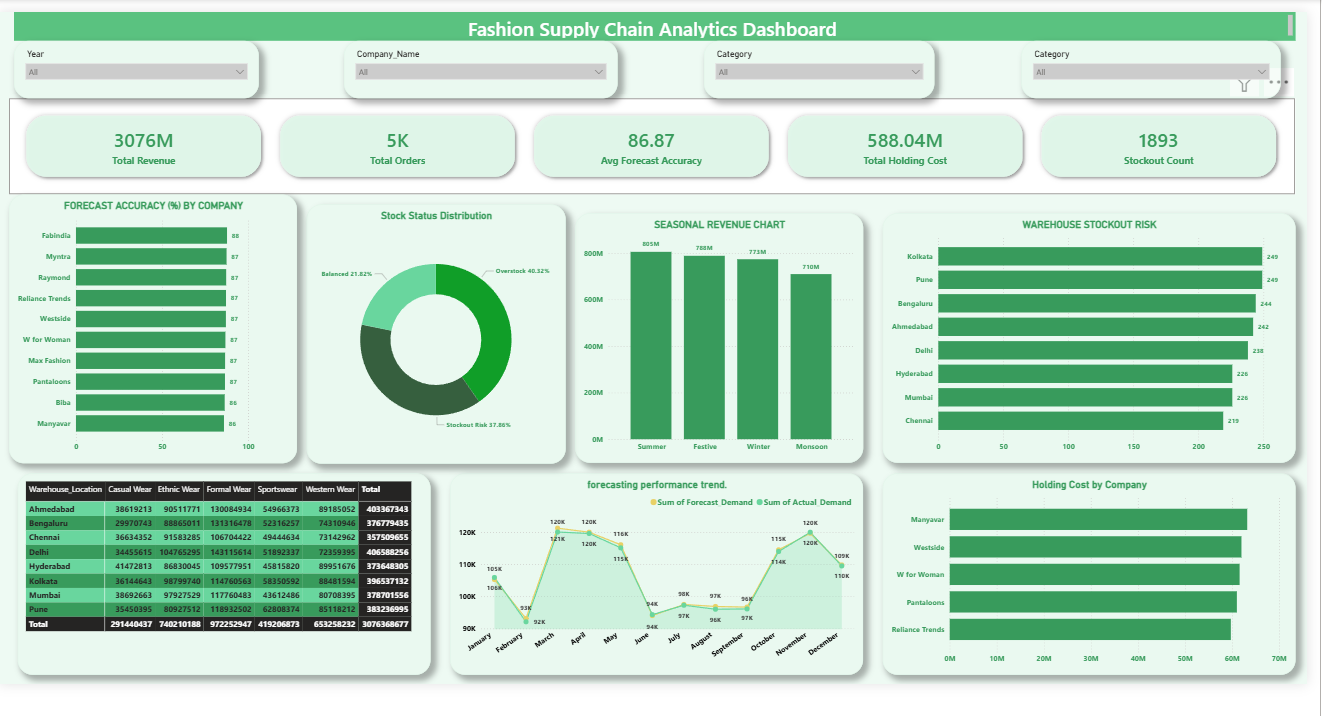

Layout of this report page (visuals, bound fields, positions):
{"tool":"powerbi","page":{"name":"Executive Supply Chain Dashboard","canvas":[2180,1120],"ordinal":0},"visuals":[{"type":"textbox","box":[24,0,2136,48],"z":0},{"type":"cardVisual","fields":{"Data":["fashion_supply_chain inventory_data.Total Revenue","CountNonNull(fashion_supply_chain inventory_data.Order_ID)","fashion_supply_chain inventory_data.Avg Forecast Accuracy","fashion_supply_chain inventory_data.Total Holding Cost","fashion_supply_chain inventory_data.Stockout Count"]},"box":[16,144,2144,160],"z":1000},{"type":"lineChart","title":"forecasting performance trend.","fields":{"Y":["Sum(fashion_supply_chain inventory_data.Forecast_Demand)","Sum(fashion_supply_chain inventory_data.Actual_Demand)"],"Category":["fashion_supply_chain inventory_data.Month"]},"box":[752,768,688,336],"z":2000},{"type":"donutChart","title":"Stock Status Distribution","fields":{"Category":["fashion_supply_chain inventory_data.Stock_Status"],"Y":["CountNonNull(fashion_supply_chain inventory_data.Order_ID)"]},"box":[512,320,432,432],"z":3000},{"type":"clusteredBarChart","title":"Holding Cost by Company","fields":{"Category":["fashion_supply_chain inventory_data.Company_Name"],"Y":["Sum(fashion_supply_chain inventory_data.Holding_Cost)"]},"box":[1472,768,688,336],"z":4000},{"type":"clusteredColumnChart","title":"SEASONAL REVENUE CHART","fields":{"Category":["fashion_supply_chain inventory_data.Season"],"Y":["Sum(fashion_supply_chain inventory_data.Revenue)"]},"box":[960,336,480,416],"z":5000},{"type":"clusteredBarChart","title":"WAREHOUSE STOCKOUT RISK","fields":{"Category":["fashion_supply_chain inventory_data.Warehouse_Location"],"Y":["CountNonNull(fashion_supply_chain inventory_data.Order_ID)"]},"box":[1472,336,688,416],"z":6000},{"type":"barChart","title":"FORECAST ACCURACY (%) BY COMPANY","fields":{"Category":["fashion_supply_chain inventory_data.Company_Name"],"Y":["Avg(fashion_supply_chain inventory_data.Forecast_Accuracy_)"]},"box":[16,304,480,448],"z":7000},{"type":"pivotTable","fields":{"Rows":["fashion_supply_chain inventory_data.Warehouse_Location"],"Columns":["fashion_supply_chain inventory_data.Category"],"Values":["Sum(fashion_supply_chain inventory_data.Revenue)"]},"box":[32,768,688,336],"z":8000},{"type":"slicer","fields":{"Values":["fashion_supply_chain inventory_data.Year"]},"box":[24,48,408,96],"z":8001},{"type":"slicer","fields":{"Values":["fashion_supply_chain inventory_data.Category"]},"box":[1176,48,384,96],"z":8002},{"type":"slicer","fields":{"Values":["fashion_supply_chain inventory_data.Company_Name"]},"box":[576,48,456,96],"z":8003},{"type":"slicer","fields":{"Values":["fashion_supply_chain inventory_data.Category"]},"box":[1704,48,432,96],"z":8004}]}

Visuals, with their boxes on the page's 2180x1120 design canvas (x1, y1, x2, y2). These are canvas units, not pixel positions in the 1322x716 screenshot, which may show the page scaled, cropped or inside an application window:
textbox: 24/0/2160/48
cardVisual - fashion_supply_chain inventory_data.Total Revenue x CountNonNull(fashion_supply_chain inventory_data.Order_ID): 16/144/2160/304
"forecasting performance trend." lineChart: 752/768/1440/1104
"Stock Status Distribution" donutChart: 512/320/944/752
"Holding Cost by Company" clusteredBarChart: 1472/768/2160/1104
"SEASONAL REVENUE CHART" clusteredColumnChart: 960/336/1440/752
"WAREHOUSE STOCKOUT RISK" clusteredBarChart: 1472/336/2160/752
"FORECAST ACCURACY (%) BY COMPANY" barChart: 16/304/496/752
pivotTable - fashion_supply_chain inventory_data.Warehouse_Location x fashion_supply_chain inventory_data.Category: 32/768/720/1104
slicer - fashion_supply_chain inventory_data.Year: 24/48/432/144
slicer - fashion_supply_chain inventory_data.Category: 1176/48/1560/144
slicer - fashion_supply_chain inventory_data.Company_Name: 576/48/1032/144
slicer - fashion_supply_chain inventory_data.Category: 1704/48/2136/144
